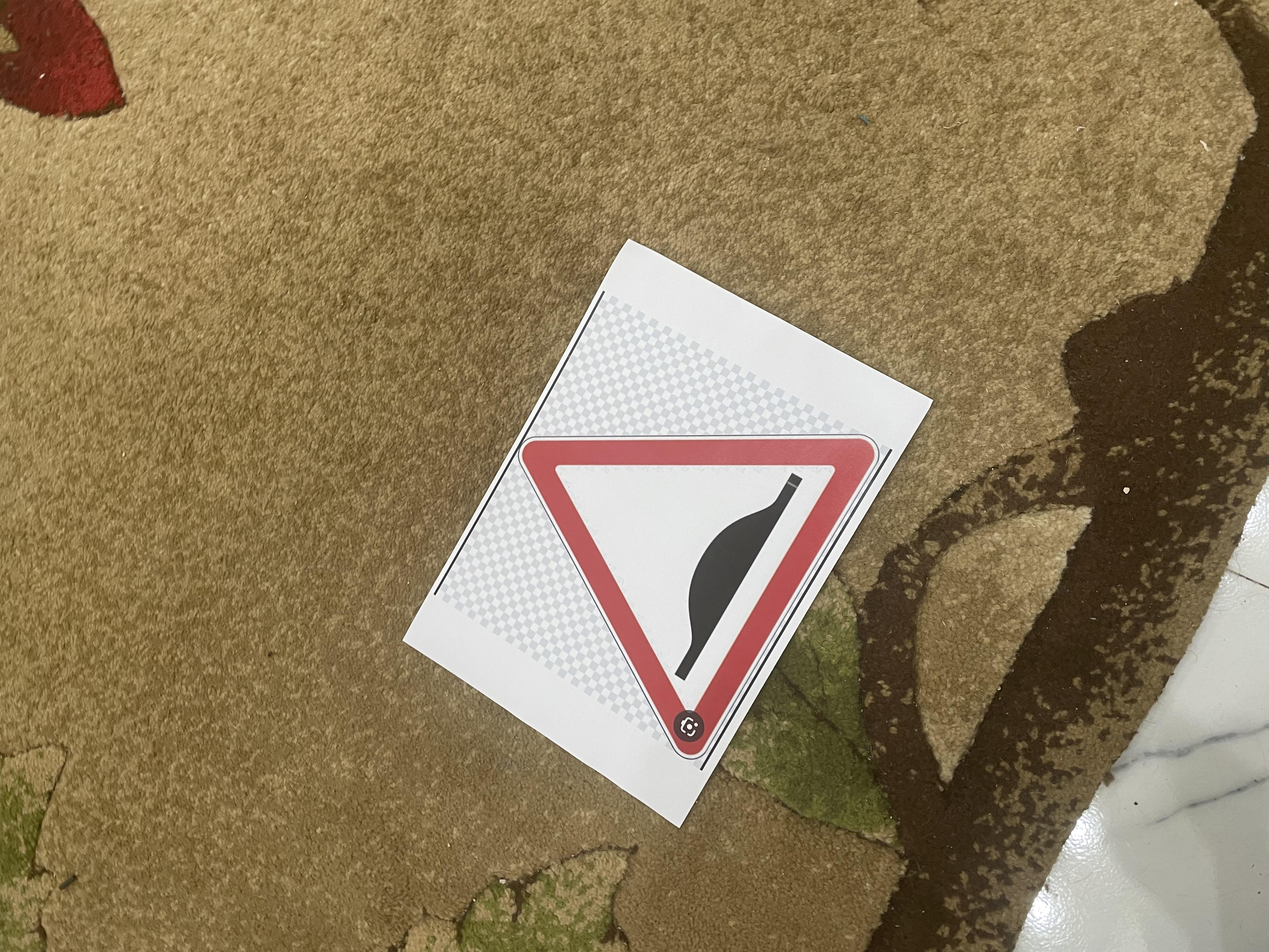Hump: (573, 293, 1012, 562)
